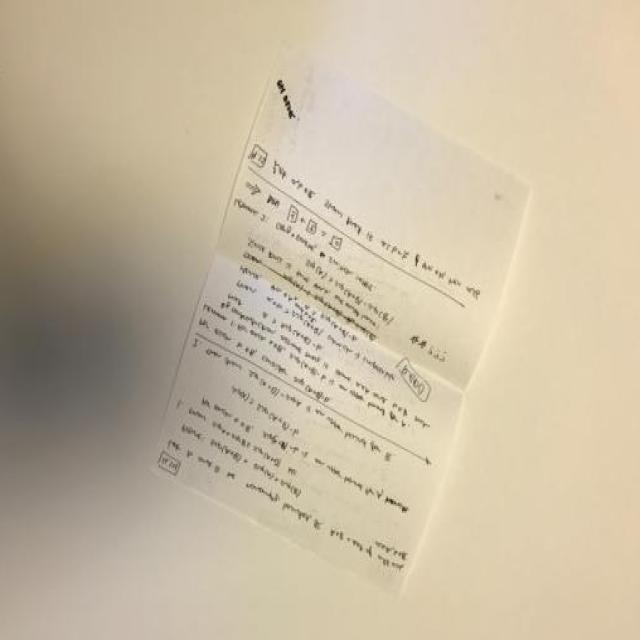kertas: (151, 42, 534, 606)
